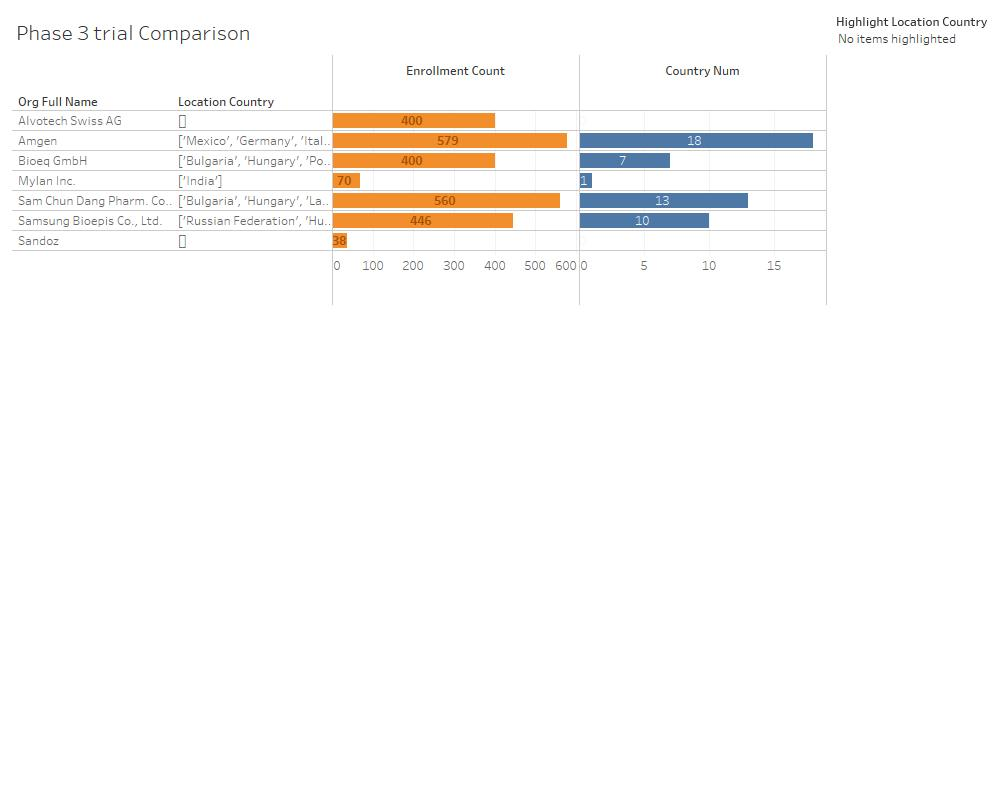

This screenshot's page, from the dashboard's own definition file:
{"tool":"tableau","page":{"name":"Dashboard 1","canvas":[1000,800],"ordinal":0},"visuals":[{"type":"worksheet","title":"Sheet 2","mark":"Bar","rows":["OrgFullName","Location Country"],"cols":["EnrollmentCount","EnrollmentCount","Country Num","Country Num"],"box":[8,8,824,784]},{"type":"highlighter","title":"Sheet 2","param":"[federated.0pvbiv409uneqz1byl6jm13ktxus].[none:Location Country:nk]","box":[832,8,160,52]}]}

Visuals, with their boxes in screenshot pixels (x1, y1, x2, y2), scaled from the page's 1000x800 canvas onto the 1000x800 screenshot:
"Sheet 2" worksheet (Bar marks): l=8, t=8, r=832, b=792
"Sheet 2" highlighter: l=832, t=8, r=992, b=60
